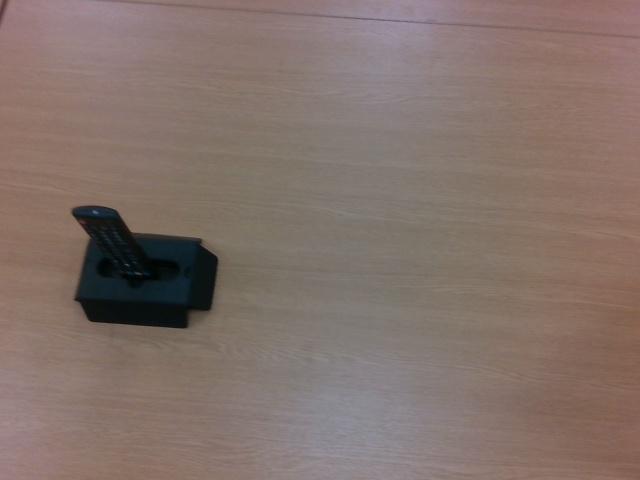remote: (72, 205, 160, 283)
